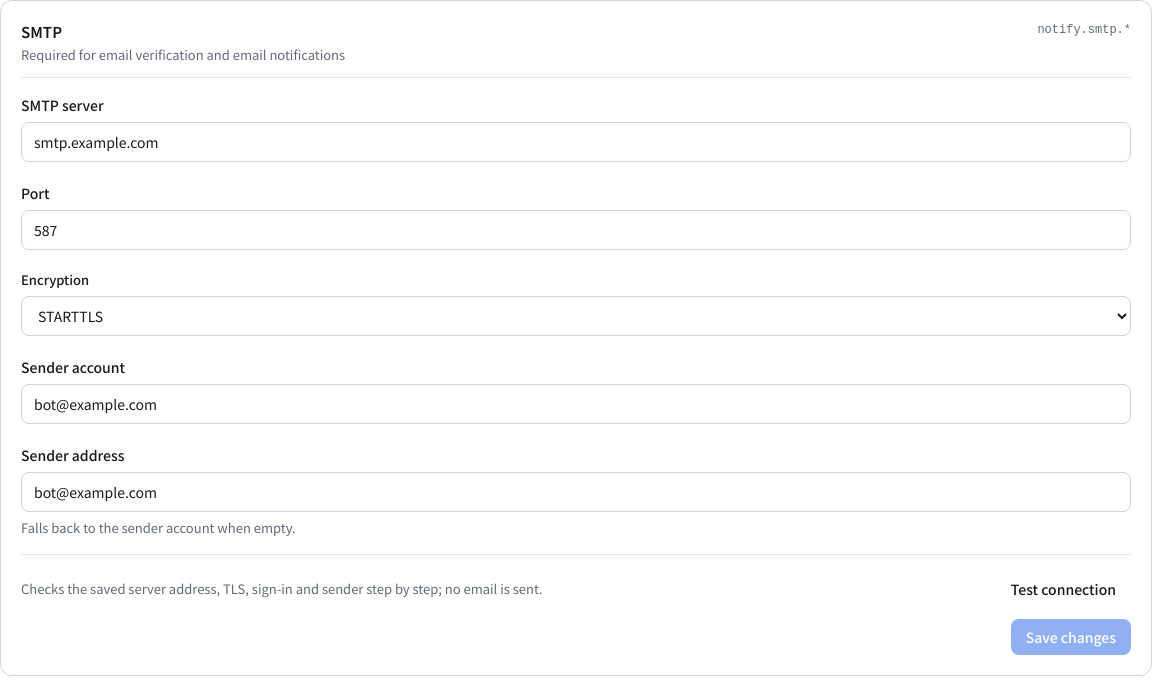
Scenario: SMTP settings section › never renders a missing-key placeholder for an unknown failure reason
Click the button "Test connection".
click(1063, 589)  # box [996, 571, 1131, 607]
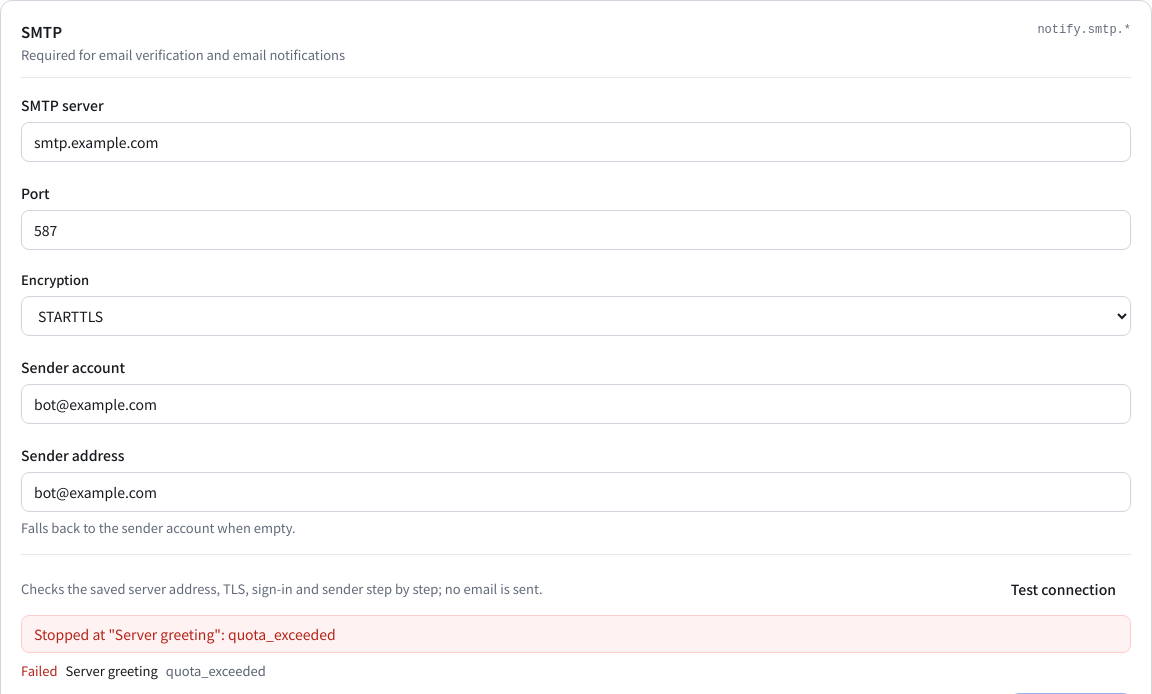
Expected: the text "quota_exceeded" is shown, [166, 661, 266, 681]
